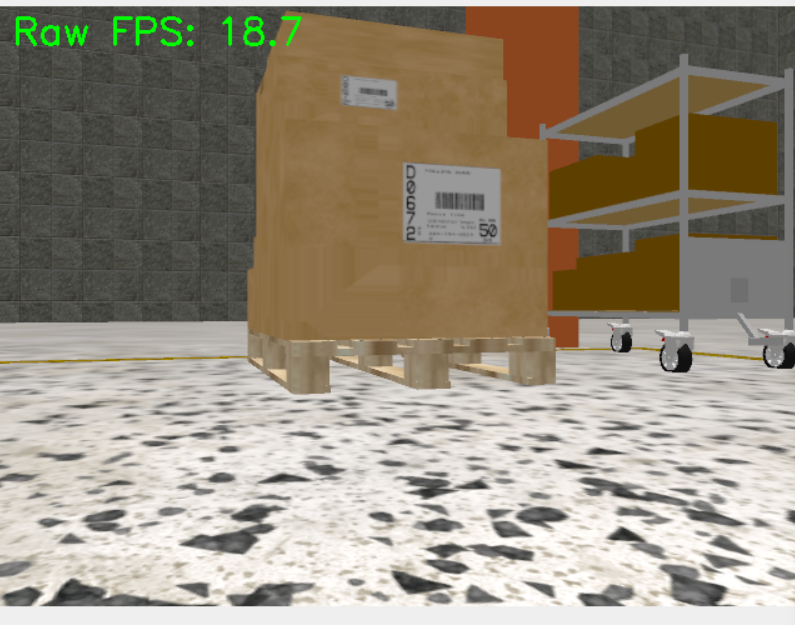barcode: (401, 163, 502, 246), (341, 74, 399, 111)
